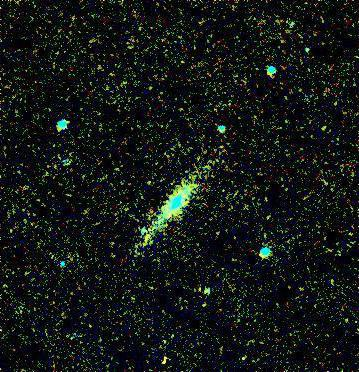star: (148, 346, 178, 372)
